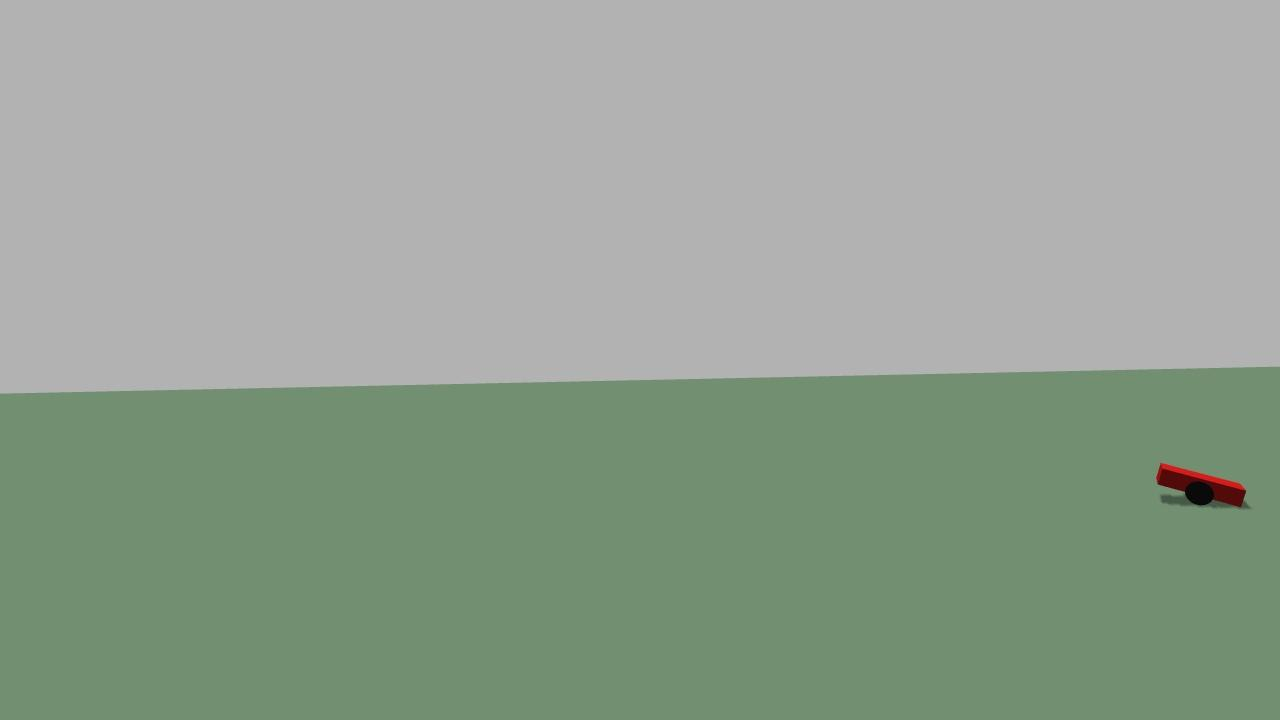ground_vehicle: (1154, 454, 1249, 525)
